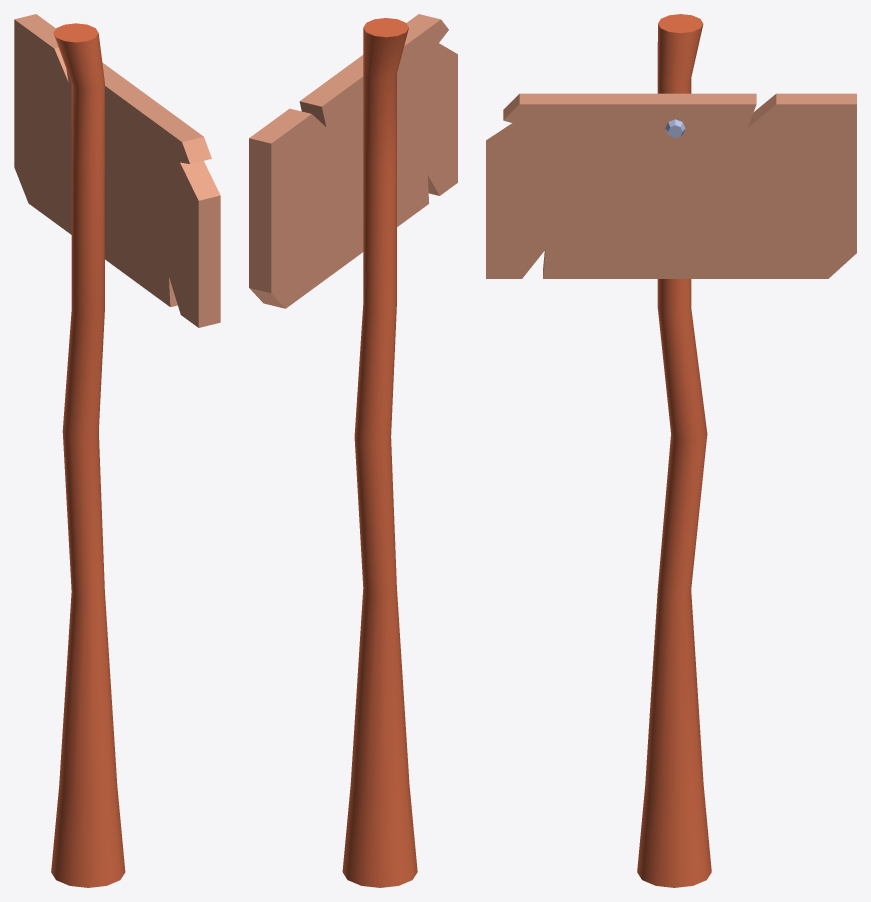
The model's file is znak.fbx.
The picture shows the model from 3 angles, left to right: view 1: azimuth 30°, elevation 25°; view 2: azimuth 150°, elevation 25°; view 3: azimuth 270°, elevation 25°; orthographic projection.
Parts seen in each view (by area): view 1: Cylinder, Cube; view 2: Cylinder, Cube; view 3: Cube, Cylinder.
Boxes of the visible parts, x1=… form: Cylinder: x1=51, y1=23, x2=125, y2=887; Cube: x1=14, y1=14, x2=220, y2=327; Cylinder: x1=342, y1=18, x2=417, y2=887; Cube: x1=249, y1=14, x2=457, y2=308; Cube: x1=486, y1=93, x2=856, y2=278; Cylinder: x1=637, y1=14, x2=711, y2=887.
Bounding box in the file's own units: 58.43 × 604 × 241.
